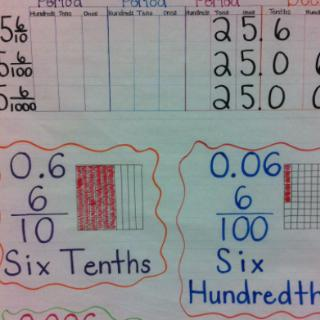.: (37, 170, 45, 180), (230, 171, 237, 179)
0: (8, 150, 31, 179), (33, 215, 54, 244), (208, 151, 230, 178), (266, 84, 288, 110), (240, 151, 261, 178), (271, 50, 291, 76), (231, 216, 250, 243), (250, 215, 268, 242)
1: (19, 216, 30, 244), (219, 214, 228, 242)
2: (211, 17, 233, 43), (212, 49, 232, 76), (212, 83, 231, 110)
5: (239, 47, 257, 77), (240, 13, 258, 42), (238, 82, 256, 110)
6: (26, 183, 51, 213), (233, 184, 256, 210), (47, 152, 68, 180), (263, 150, 282, 179), (272, 16, 293, 42)
